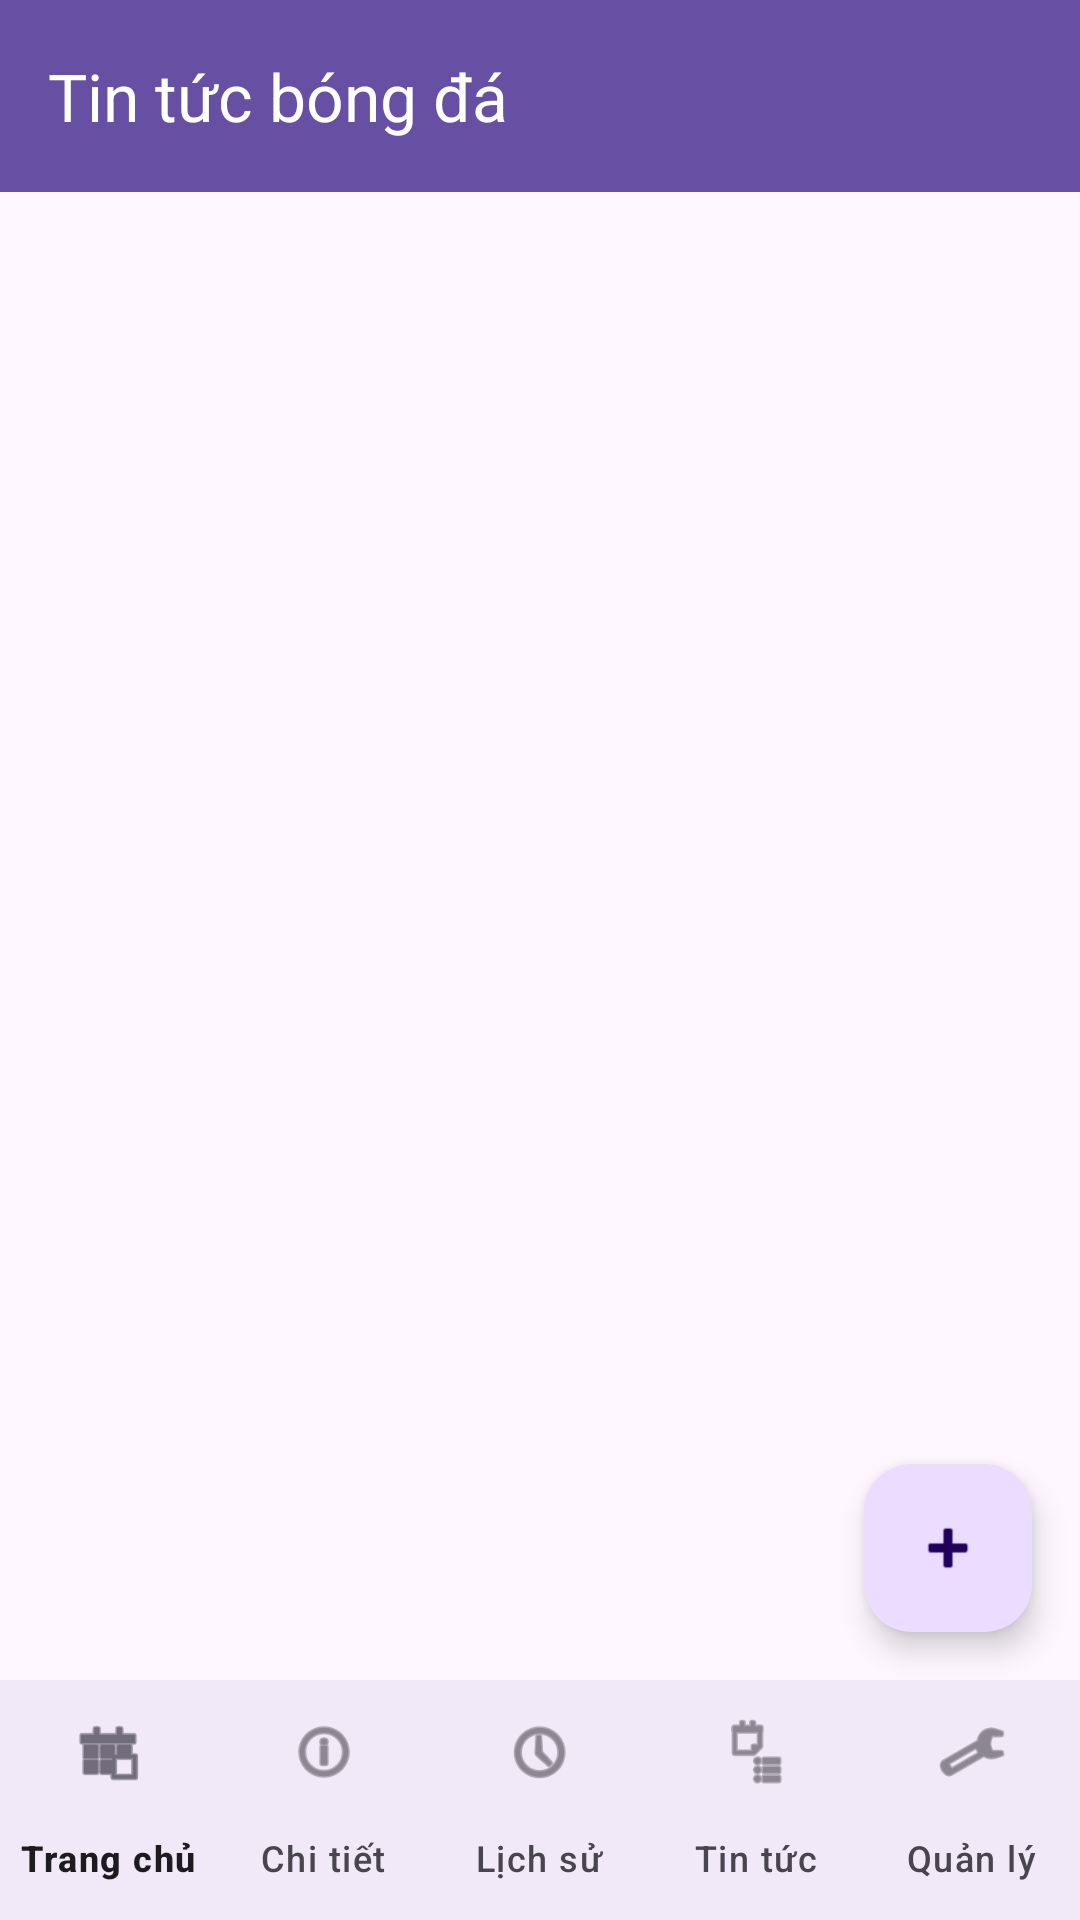

Locate icon controls on the screen. Image size 1080*1920, boxes as (x1, y1, x2, y2).
Add News: (864, 1464, 1032, 1632)
